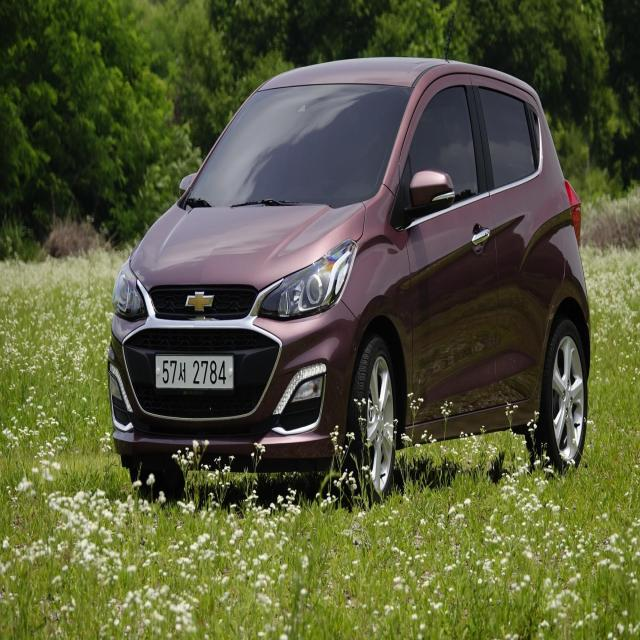car: (106, 45, 599, 510)
illegal_plate: (153, 350, 237, 399)
